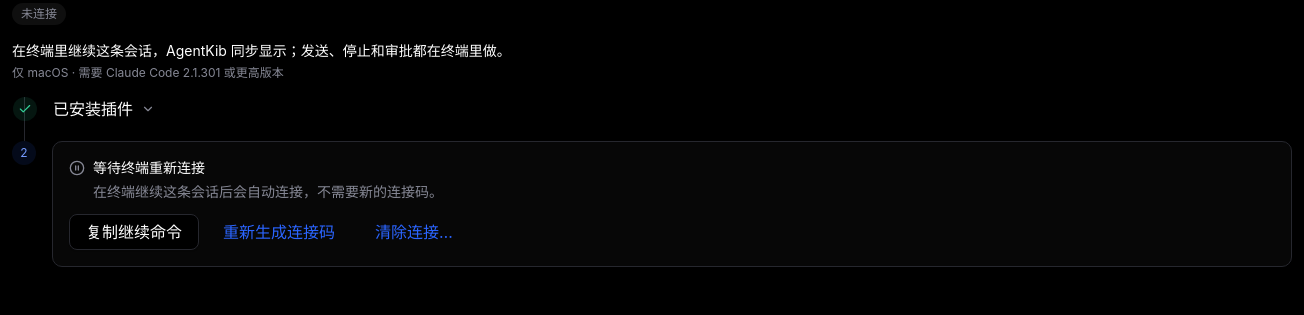
Claude terminal connection management › copies the validated resume command without building a command or generating a code
Click the button "复制继续命令": [134, 232] box x1=69 y1=214 x2=199 y2=250
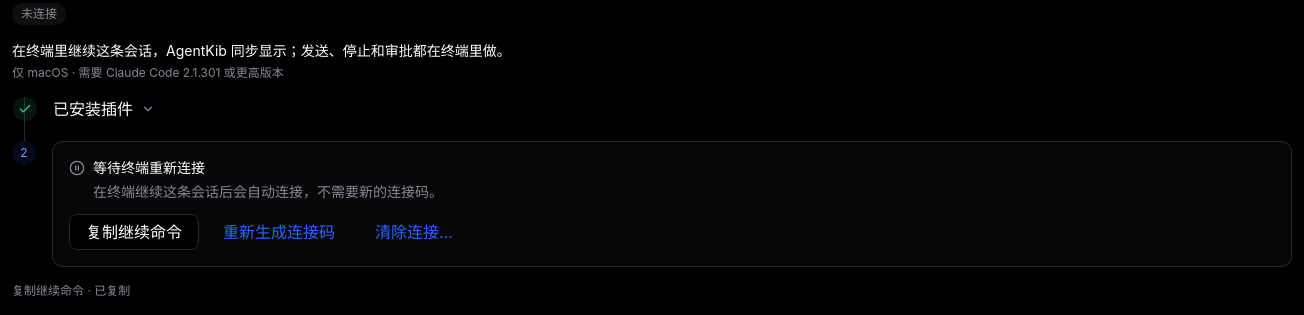
Now the text "复制继续命令 · 已复制" is shown, box x1=12 y1=283 x2=130 y2=298
